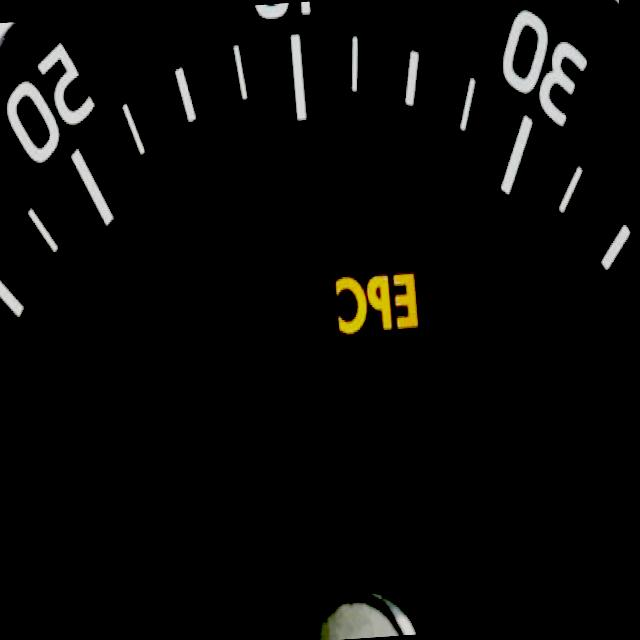kontrolka: (316, 250, 436, 346)
